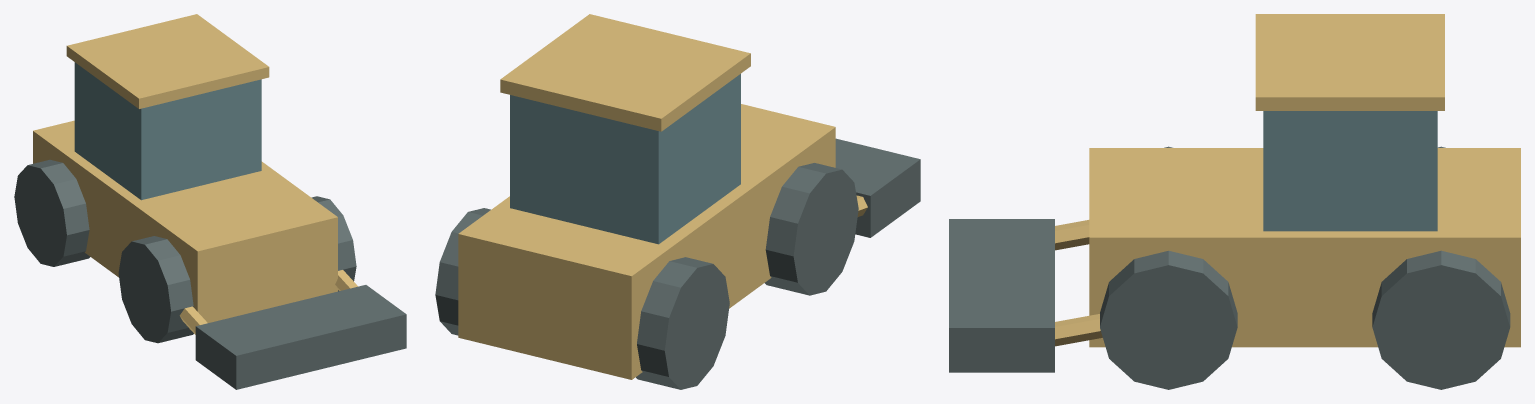
3 renders of one model, left to right at view 1: azimuth 30°, elevation 25°; view 2: azimuth 150°, elevation 25°; view 3: azimuth 270°, elevation 25°, orthographic. The views are drawn at different scales.
Size of the model in its own units: 3.7 by 4.01 by 7.55.
